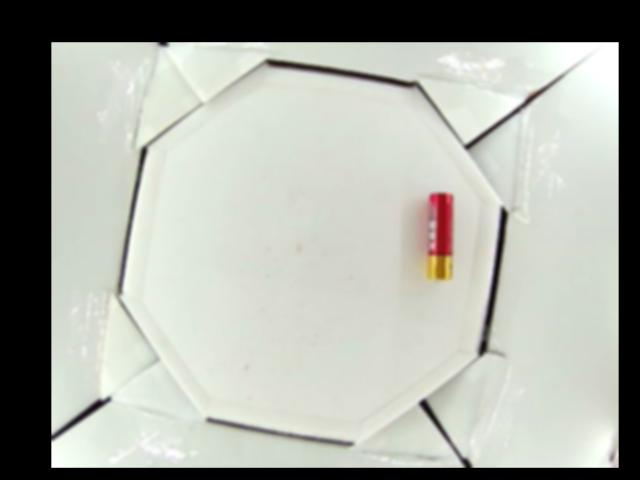Battery: (427, 191, 454, 282)
